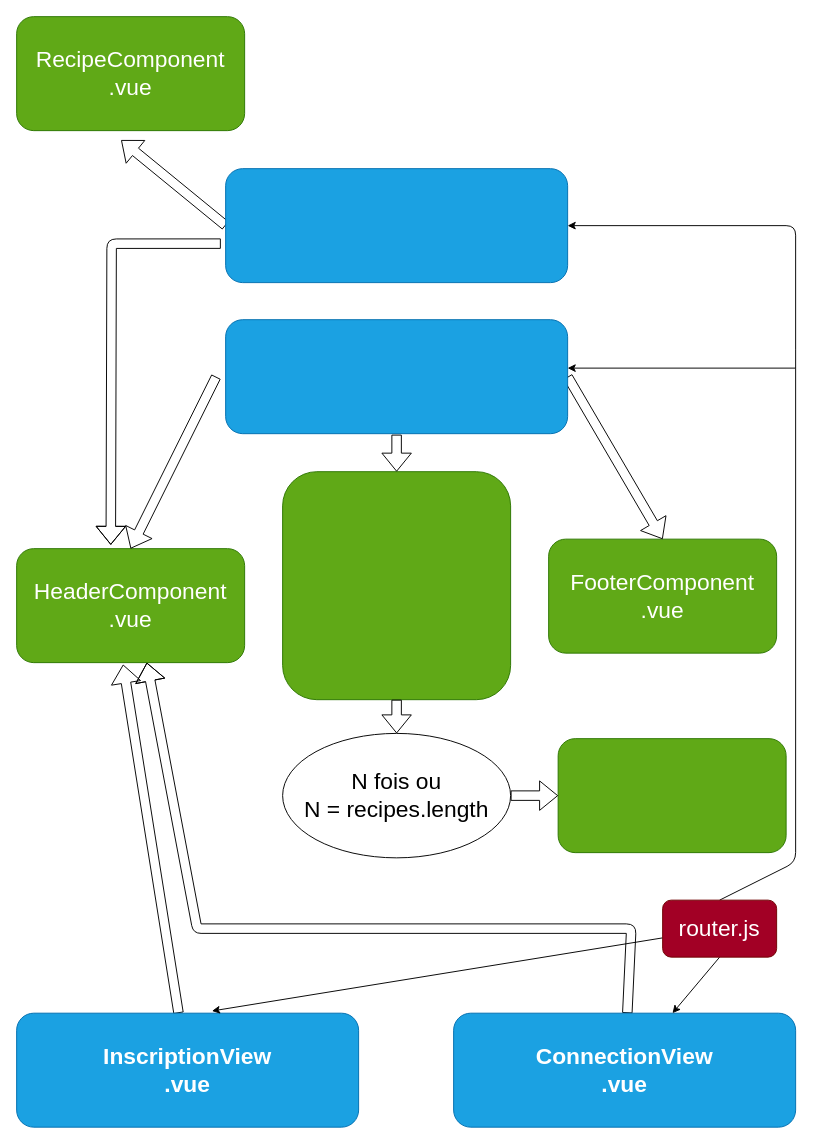
Image size: 820x1144. Some labels were removed from this diagram. The shapes that lost their labels are listed below. From the top down, each one's centre as x and y in pixels, then its label:
the point at 396,225: RecipeView .vue (appel API :id)
the point at 396,376: HomeView.vue
the point at 396,585: ArticlesComponent .vue recipes = Array (appel API)
the point at 671,795: ArticleComponent .vue
